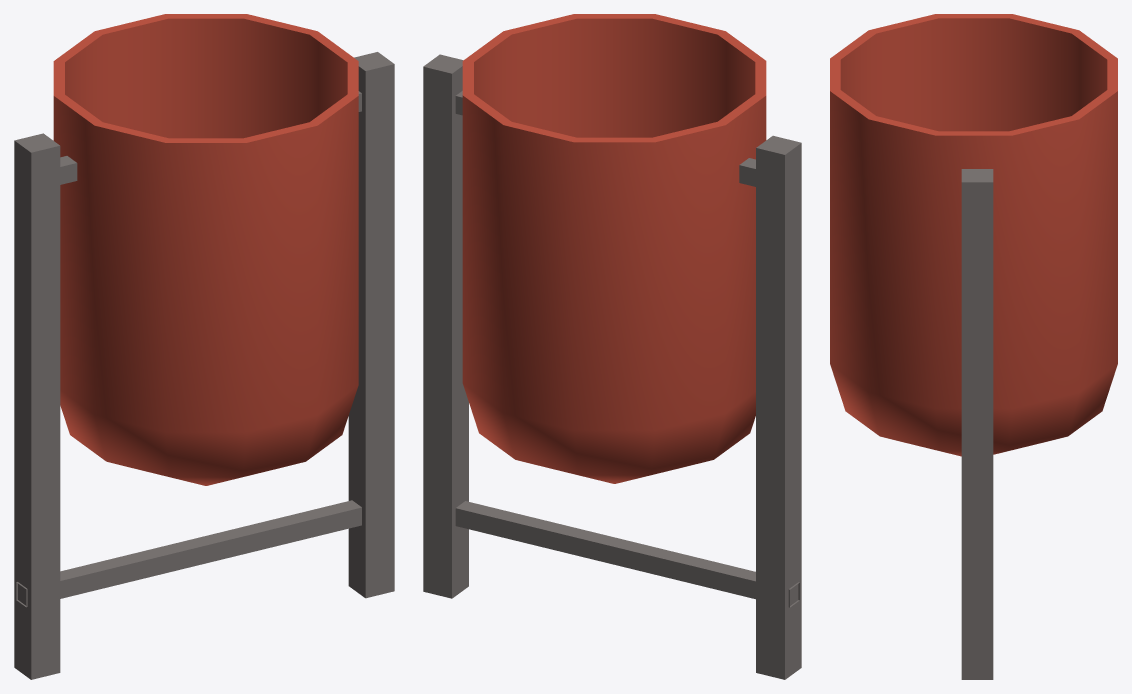
Rendered from SM_Trash_02.fbx.
3 views of the same model, side by side, from view 1: azimuth 30°, elevation 25°; view 2: azimuth 150°, elevation 25°; view 3: azimuth 270°, elevation 25° (orthographic). The views are drawn at different scales.
Visible parts, largest first — view 1: SM_Trash_02; view 2: SM_Trash_02; view 3: SM_Trash_02.
Boxes of the visible parts, bbox=[...] form: SM_Trash_02: bbox=[14, 14, 394, 679]; SM_Trash_02: bbox=[423, 14, 801, 679]; SM_Trash_02: bbox=[830, 14, 1117, 679].
Size of the model in its own units: 31.66 by 45.8 by 22.91.
